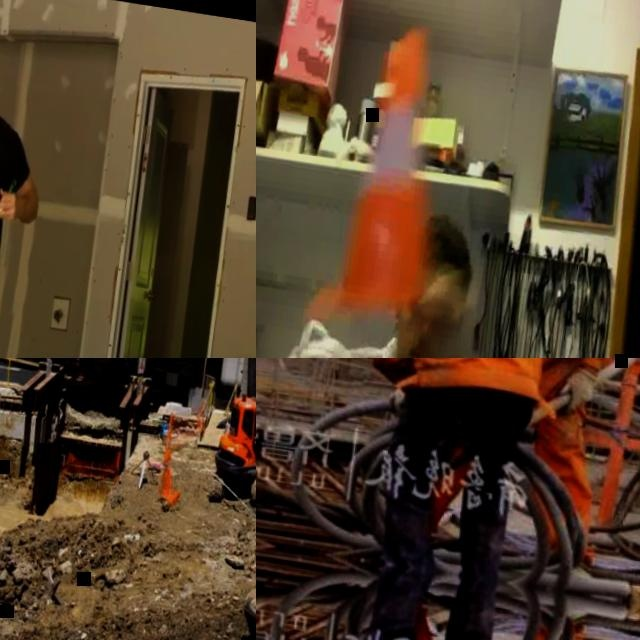NO-Hardhat: (420, 213, 479, 274)
NO-Mask: (385, 319, 439, 358)
NO-Safety Vest: (0, 106, 19, 289)
Person: (307, 358, 579, 640), (417, 358, 629, 567), (305, 203, 550, 358), (0, 22, 64, 358)
Safety Cone: (297, 3, 480, 342), (160, 412, 176, 464)
Safety Vest: (371, 358, 557, 401), (511, 358, 609, 394)
machinery: (203, 358, 256, 523), (85, 358, 206, 402)
